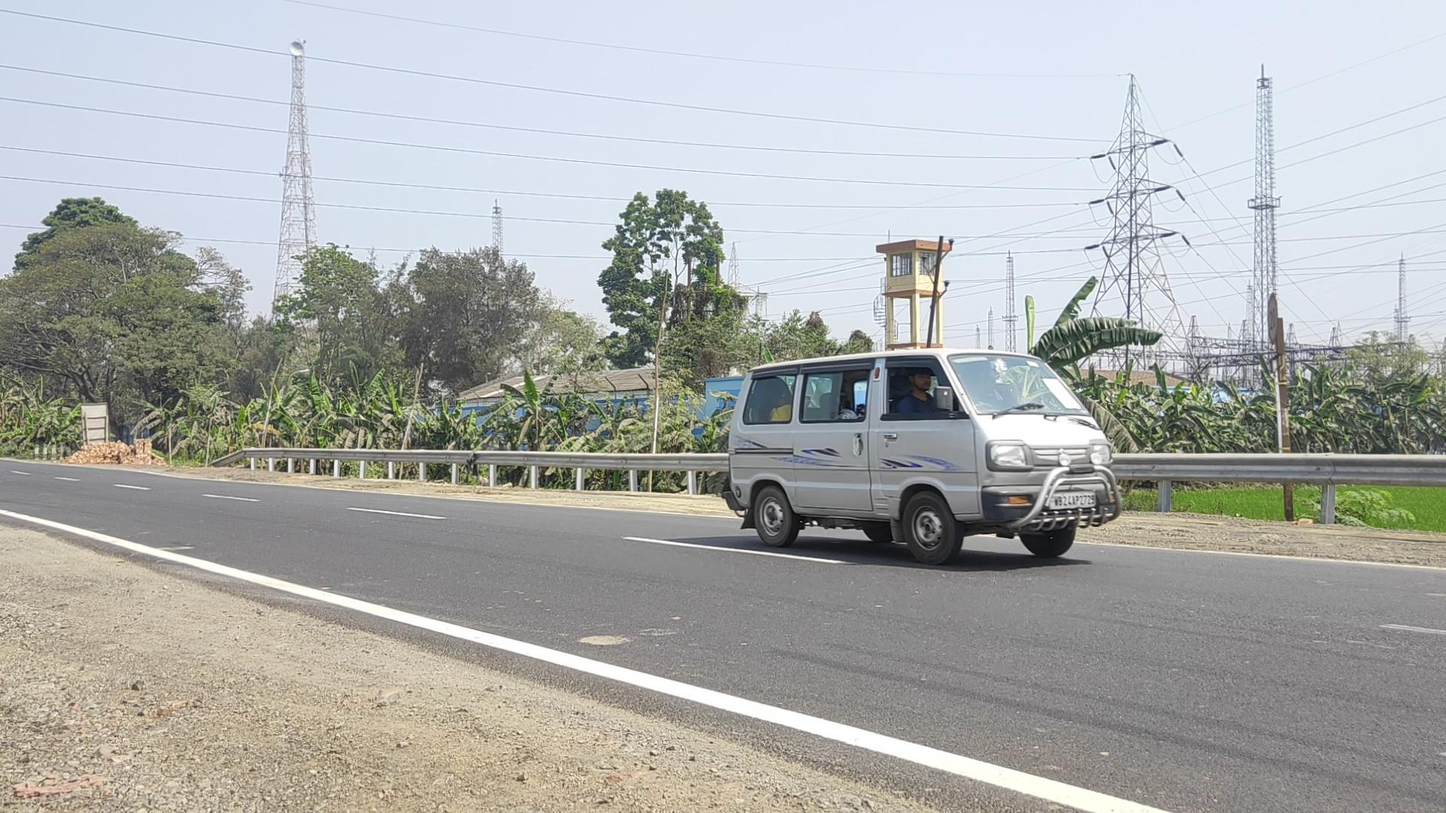van: (721, 347, 1122, 566)
